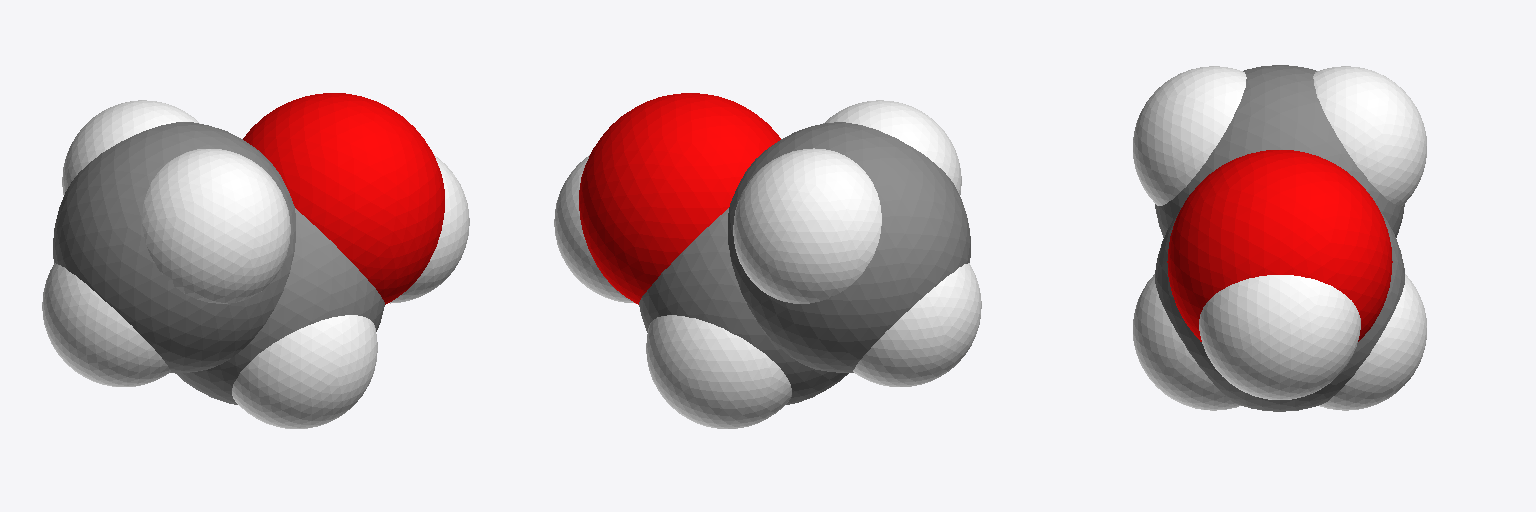
Rendered from ethanol.obj.
The picture shows the model from 3 angles: view 1: azimuth 30°, elevation 25°; view 2: azimuth 150°, elevation 25°; view 3: azimuth 270°, elevation 25°; orthographic projection.
Parts seen in each view (by area): view 1: C2_Atom, O3_Atom, H6_Atom, H4_Atom, C1_Atom, H8_Atom, H7_Atom, H9_Atom; view 2: C2_Atom, O3_Atom, H7_Atom, H5_Atom, C1_Atom, H8_Atom, H6_Atom, H9_Atom; view 3: O3_Atom, H9_Atom, C2_Atom, H6_Atom, H7_Atom, C1_Atom, H4_Atom, H5_Atom.
Boxes of the visible parts, <box> form: C2_Atom: <box>53,122,295,372</box>; O3_Atom: <box>243,93,444,304</box>; H6_Atom: <box>142,149,290,303</box>; H4_Atom: <box>232,315,377,428</box>; C1_Atom: <box>175,208,384,404</box>; H8_Atom: <box>42,263,170,386</box>; H7_Atom: <box>62,100,199,194</box>; H9_Atom: <box>390,155,469,303</box>; C2_Atom: <box>728,122,970,372</box>; O3_Atom: <box>579,93,780,304</box>; H7_Atom: <box>733,148,881,303</box>; H5_Atom: <box>646,315,791,428</box>; C1_Atom: <box>639,208,848,404</box>; H8_Atom: <box>853,263,981,386</box>; H6_Atom: <box>823,100,961,194</box>; H9_Atom: <box>554,155,635,303</box>; O3_Atom: <box>1167,150,1392,341</box>; H9_Atom: <box>1199,275,1360,399</box>; C2_Atom: <box>1155,65,1404,237</box>; H6_Atom: <box>1133,66,1246,205</box>; H7_Atom: <box>1313,66,1426,205</box>; C1_Atom: <box>1155,213,1404,411</box>; H4_Atom: <box>1133,274,1240,410</box>; H5_Atom: <box>1319,274,1426,410</box>.
Bounding box in the file's own units: 6.33 × 4.28 × 3.98.